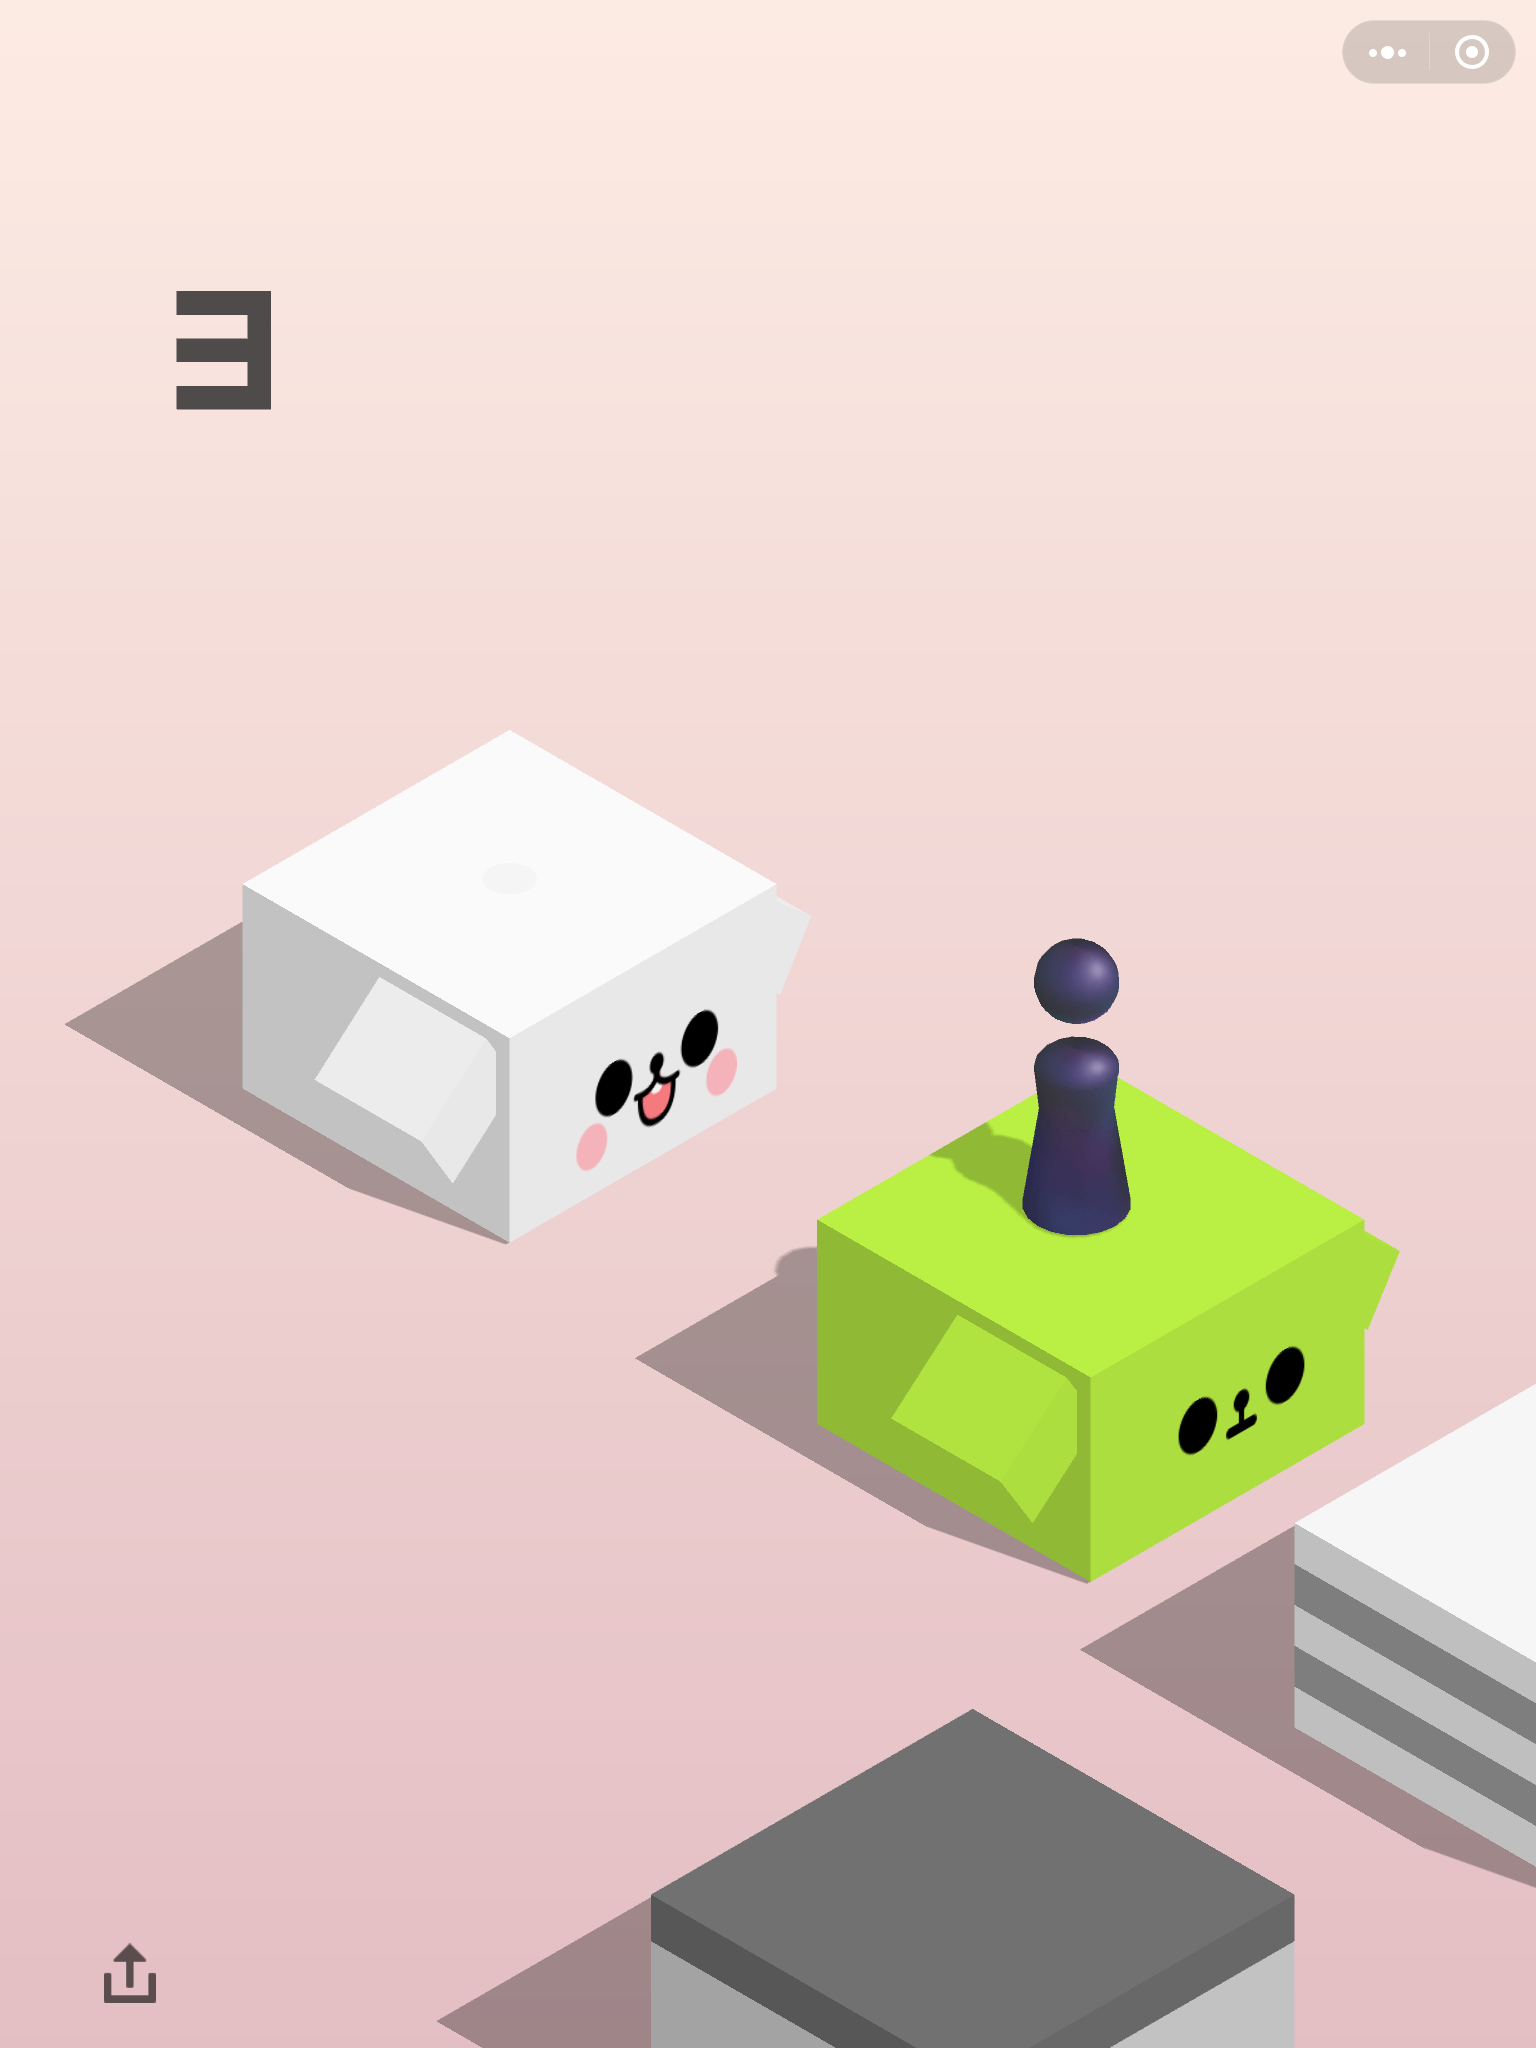f: (815, 1051, 1400, 1592), (234, 718, 816, 1253), (649, 1708, 1297, 2048), (1296, 1379, 1536, 1903)
r: (1013, 930, 1136, 1243)
